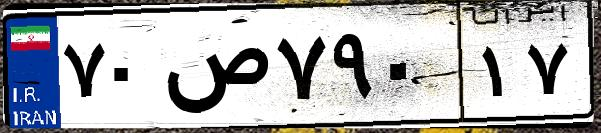0: (385, 28, 445, 110), (110, 28, 158, 98)
1: (475, 38, 525, 113)
7: (270, 28, 330, 110), (57, 26, 110, 100), (525, 38, 570, 115)
9: (330, 28, 385, 110)
ص: (158, 20, 270, 120)
